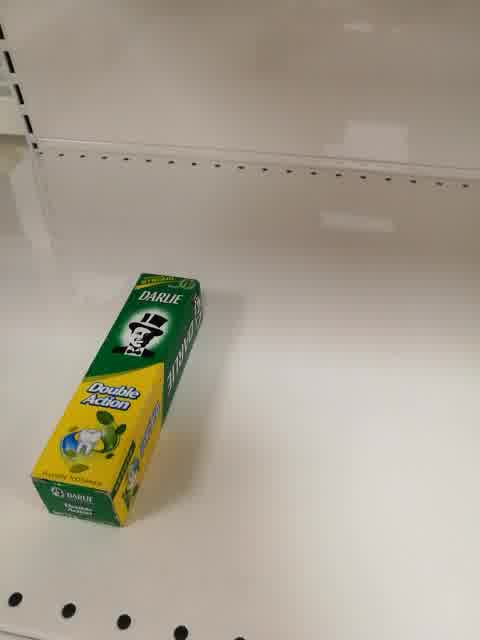toothpaste: (28, 272, 203, 528)
